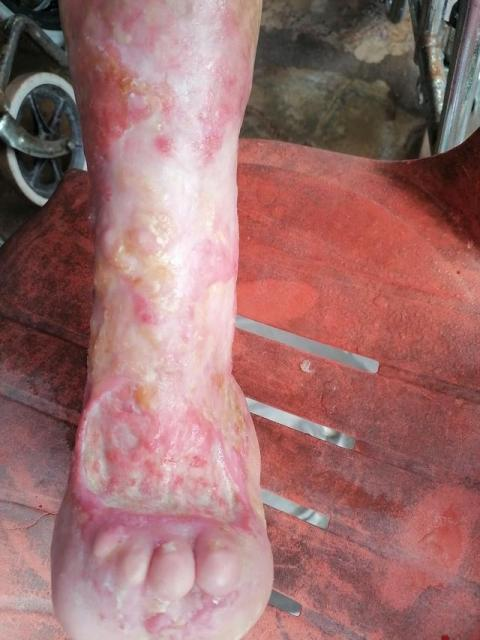wound: (64, 4, 254, 202), (75, 380, 255, 529), (136, 590, 238, 638), (118, 266, 163, 327)
